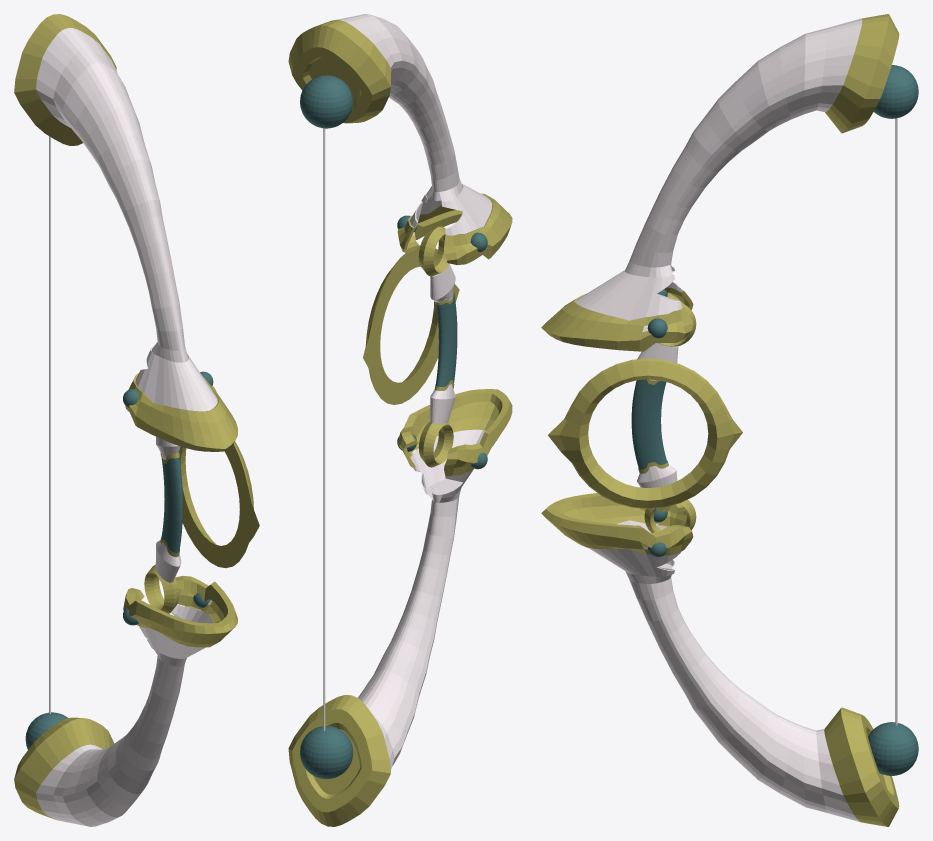
Rendered from sinon underworld bow.fbx.
The picture shows the model from 3 angles, left to right: view 1: azimuth 30°, elevation 25°; view 2: azimuth 150°, elevation 25°; view 3: azimuth 270°, elevation 25°; orthographic projection.
Parts seen in each view (by area): view 1: Circle, Circle.002, Circle.001; view 2: Circle, Circle.002, Circle.001; view 3: Circle, Circle.001, Circle.002.
Boxes of the visible parts, <box> form: Circle: <box>14,14,237,826</box>; Circle.002: <box>25,371,213,749</box>; Circle.001: <box>179,441,259,568</box>; Circle: <box>288,14,512,826</box>; Circle.002: <box>300,75,487,779</box>; Circle.001: <box>363,245,459,404</box>; Circle: <box>541,14,899,826</box>; Circle.001: <box>548,358,742,508</box>; Circle.002: <box>631,65,918,775</box>.
Size of the model in its own units: 23.72 by 177 by 74.85.
